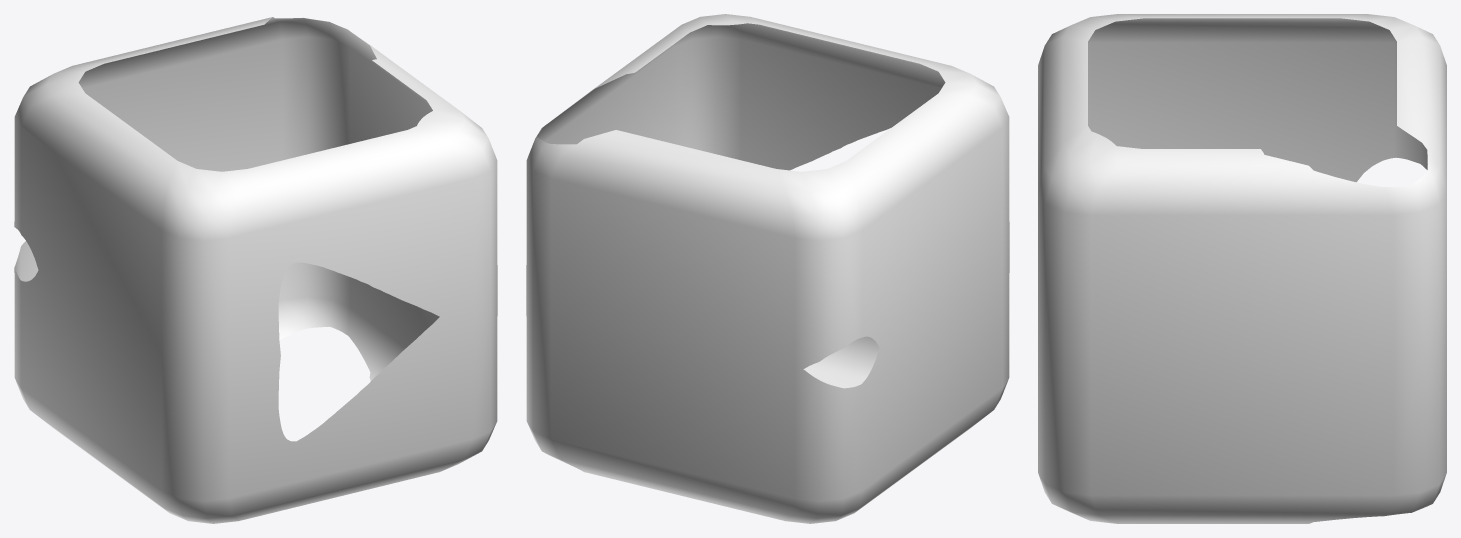
The model's file is WatermelonCube.fbx.
3 views of the same model, side by side, from view 1: azimuth 30°, elevation 25°; view 2: azimuth 150°, elevation 25°; view 3: azimuth 270°, elevation 25° (orthographic). The views are drawn at different scales.
Parts seen in each view (by area): view 1: WatermelonCube.001; view 2: WatermelonCube.001; view 3: WatermelonCube.001.
Boxes of the visible parts, bbox=[...] form: WatermelonCube.001: bbox=[14, 17, 497, 523]; WatermelonCube.001: bbox=[526, 14, 1009, 523]; WatermelonCube.001: bbox=[1038, 14, 1446, 523].
Size of the model in its own units: 68.83 by 77.45 by 68.83.
